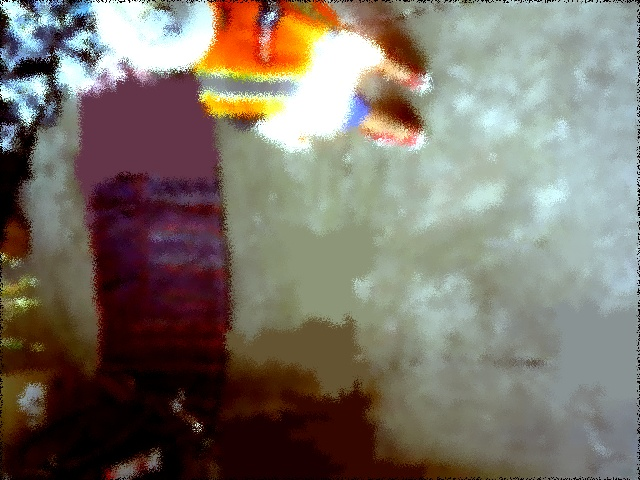two: (136, 6, 180, 45)
